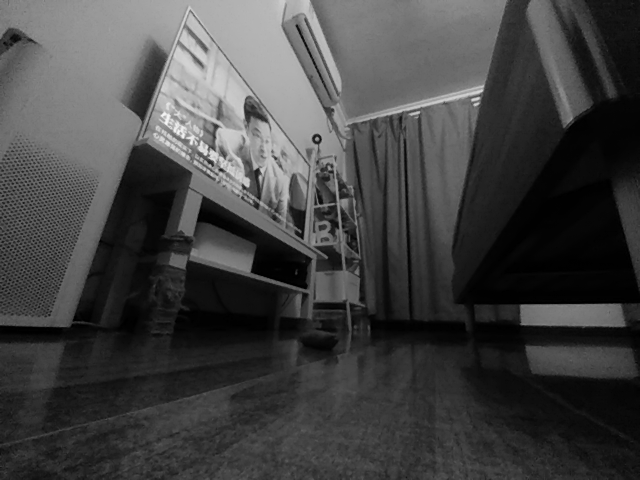curtain: (344, 97, 518, 323)
pet feces: (301, 329, 339, 353)
